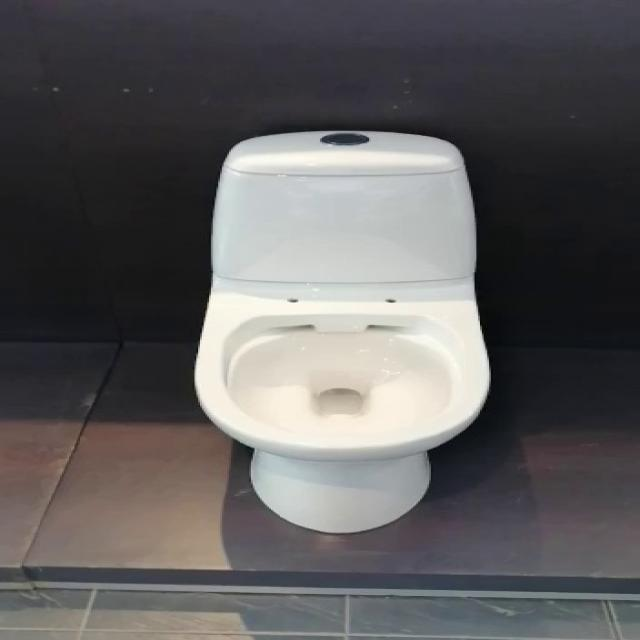toilet: (193, 128, 491, 534)
